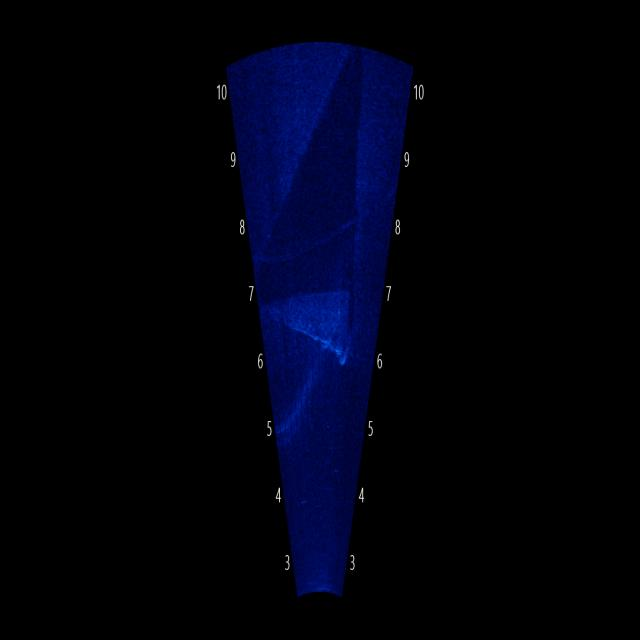triangle: (258, 282, 359, 372)
